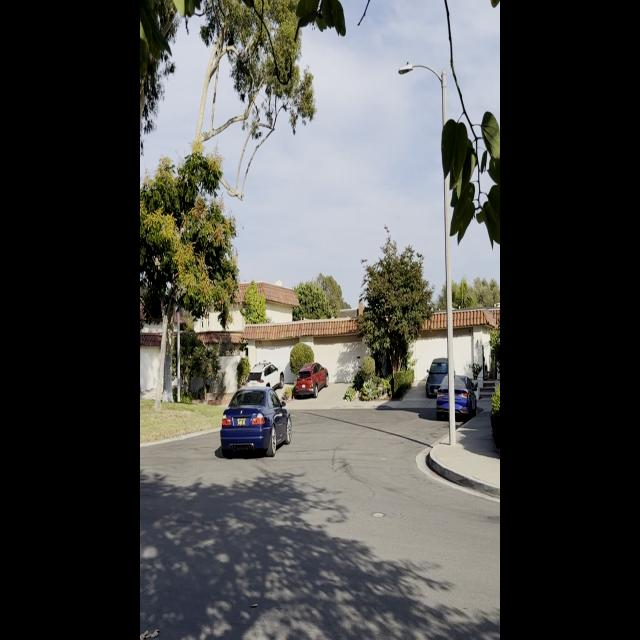Carbeetle: (216, 372, 295, 470)
Civilian: (435, 373, 477, 423), (246, 361, 284, 400), (293, 362, 330, 399), (426, 352, 453, 398)
